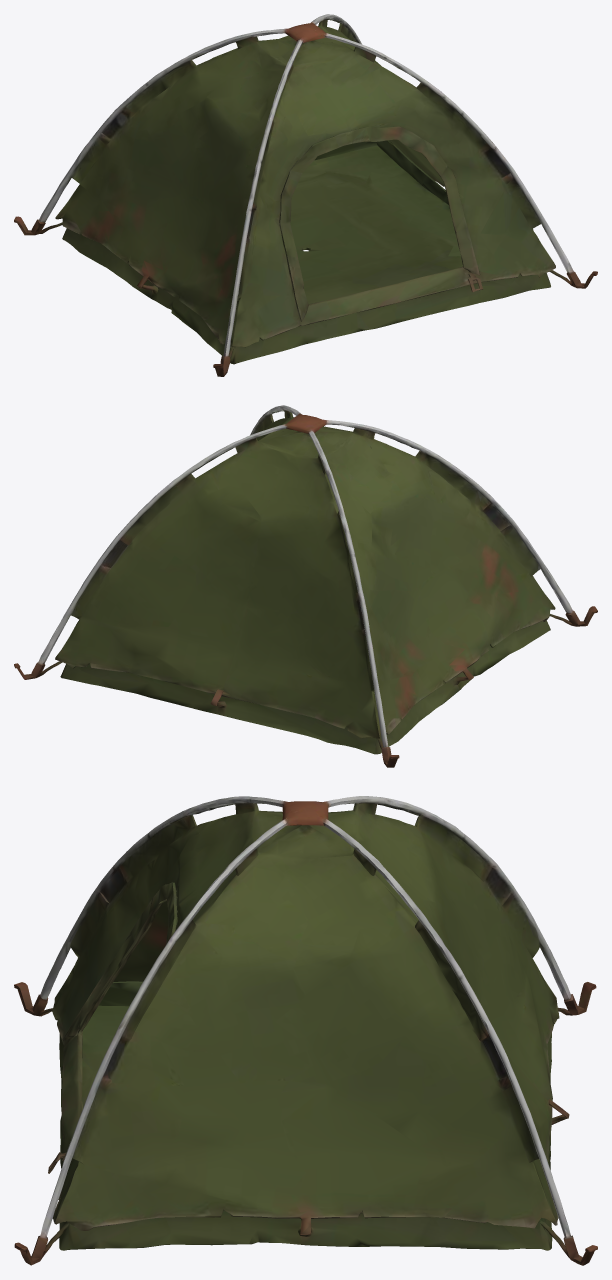
The model's file is tent_camp_odnomestnaya_idle.glb.
3 renders of one model, top to bottom at view 1: azimuth 30°, elevation 25°; view 2: azimuth 150°, elevation 25°; view 3: azimuth 270°, elevation 25°, orthographic. The views are drawn at different scales.
Visible parts, largest first — view 1: tripo_node_47c8d096-67ee-464c-a9da-cb49a1c71b10; view 2: tripo_node_47c8d096-67ee-464c-a9da-cb49a1c71b10; view 3: tripo_node_47c8d096-67ee-464c-a9da-cb49a1c71b10.
Boxes of the visible parts, x1=… form: tripo_node_47c8d096-67ee-464c-a9da-cb49a1c71b10: x1=14, y1=14, x2=597, y2=376; tripo_node_47c8d096-67ee-464c-a9da-cb49a1c71b10: x1=14, y1=405, x2=597, y2=767; tripo_node_47c8d096-67ee-464c-a9da-cb49a1c71b10: x1=14, y1=796, x2=597, y2=1265.
Size of the model in its own units: 2.4 by 1.4 by 2.22.
1 material, 1 textured.
